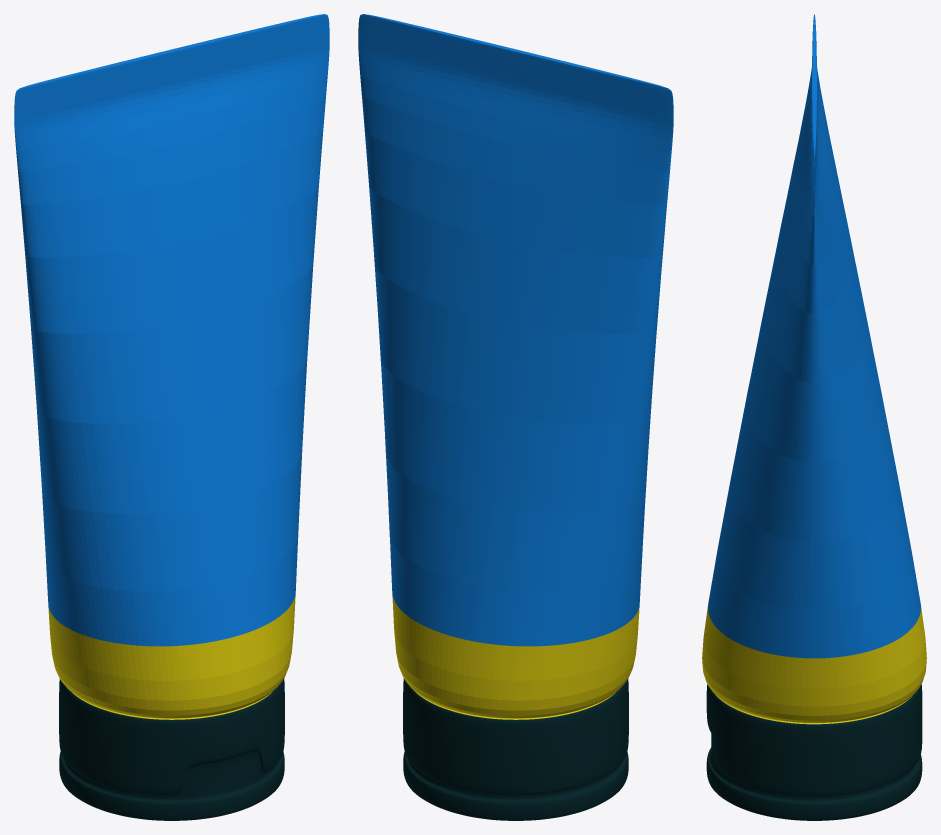
File: amaterasun.obj
3 renders of one model, left to right at view 1: azimuth 30°, elevation 25°; view 2: azimuth 150°, elevation 25°; view 3: azimuth 270°, elevation 25°, orthographic. The views are drawn at different scales.
Visible parts, largest first — view 1: Circle_base, Circle_cap, Circle_stripe; view 2: Circle_base, Circle_cap, Circle_stripe; view 3: Circle_base, Circle_cap, Circle_stripe.
Boxes of the visible parts, left/top/right/bottom form: Circle_base: left=14, top=14, right=329, bottom=646; Circle_cap: left=59, top=678, right=284, bottom=820; Circle_stripe: left=48, top=595, right=295, bottom=719; Circle_base: left=358, top=14, right=673, bottom=646; Circle_cap: left=403, top=678, right=628, bottom=820; Circle_stripe: left=392, top=595, right=639, bottom=719; Circle_base: left=708, top=14, right=920, bottom=658; Circle_cap: left=706, top=684, right=922, bottom=820; Circle_stripe: left=702, top=607, right=926, bottom=724.
Size of the model in its own units: 3.2 by 7.04 by 2.07.
